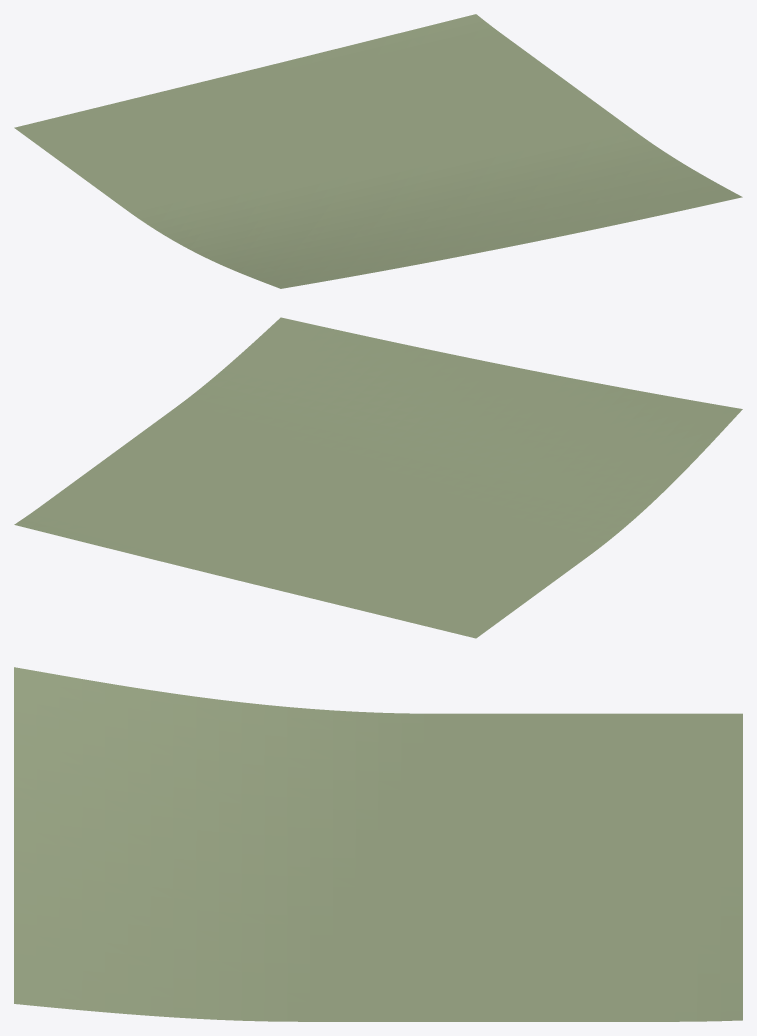
File: valley-12-8.glb
The picture shows the model from 3 angles, top to bottom: view 1: azimuth 30°, elevation 25°; view 2: azimuth 150°, elevation 25°; view 3: azimuth 270°, elevation 25°; orthographic projection. The views are drawn at different scales.
Parts seen in each view (by area): view 1: valley-12-8; view 2: valley-12-8; view 3: valley-12-8.
Part boxes in pixels (<box>): valley-12-8: <box>14,14,742,288</box>; valley-12-8: <box>14,317,742,638</box>; valley-12-8: <box>14,667,742,1021</box>.
Size of the model in its own units: 256 by 18.08 by 256.
